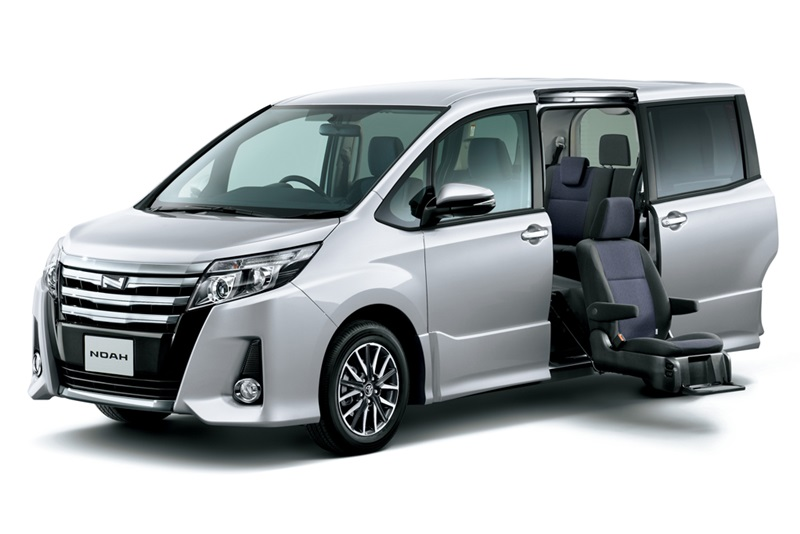van: (28, 73, 781, 451)
